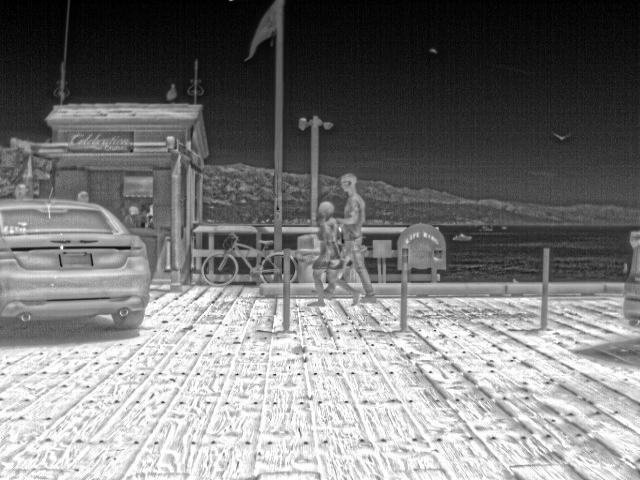car: (0, 196, 152, 333), (620, 228, 639, 333)
person: (321, 173, 377, 304), (307, 200, 344, 304), (347, 279, 367, 304), (122, 206, 143, 228)
